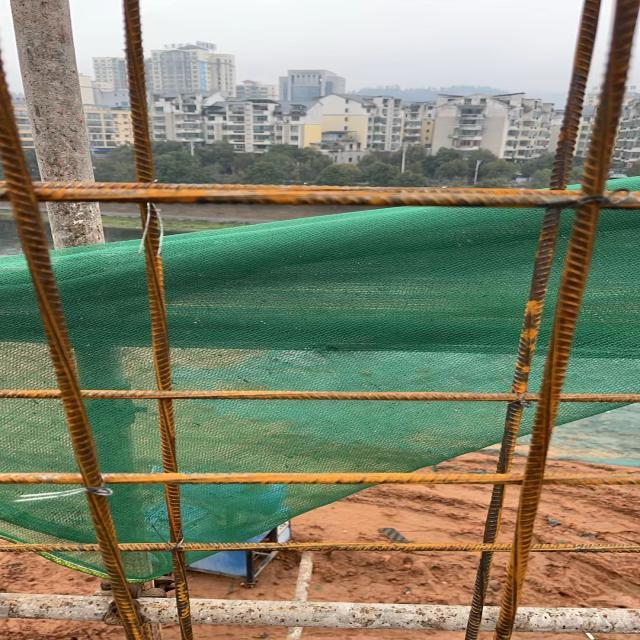ribbed bar: (493, 0, 639, 639), (462, 0, 602, 639), (0, 57, 145, 639), (121, 0, 194, 639), (0, 180, 639, 211), (0, 389, 639, 403), (0, 473, 639, 486), (0, 543, 639, 553)
